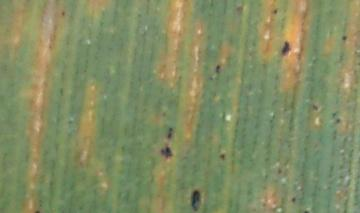tarspot: (190, 188, 203, 213), (157, 145, 177, 161), (279, 37, 292, 59), (310, 102, 321, 113), (270, 7, 282, 17), (218, 152, 228, 163), (214, 63, 223, 75), (164, 132, 174, 140), (341, 34, 350, 42), (276, 167, 284, 176), (290, 196, 298, 204), (301, 208, 313, 213), (33, 208, 43, 213), (60, 9, 67, 16), (336, 118, 343, 125), (167, 126, 175, 132), (331, 112, 337, 119)
